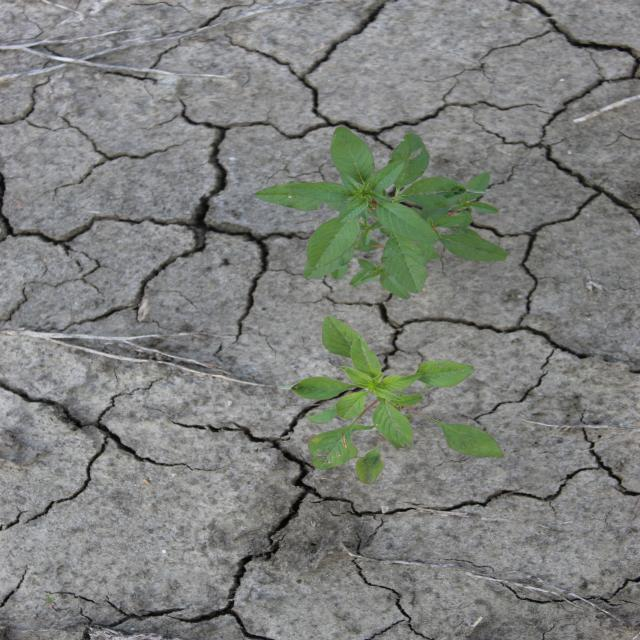PalmerAmaranth: (289, 314, 508, 490)
Waterhemp: (250, 124, 511, 302)
